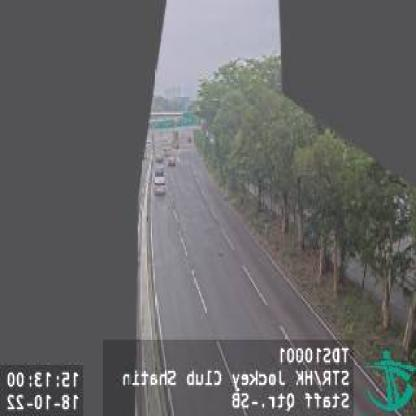Car: (152, 174, 167, 198), (167, 154, 177, 166)
